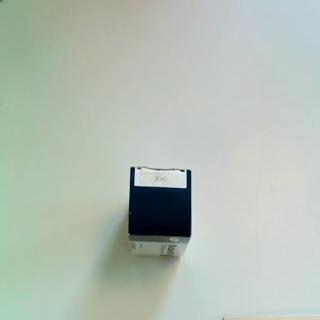sobril25mg: (127, 164, 193, 261)
